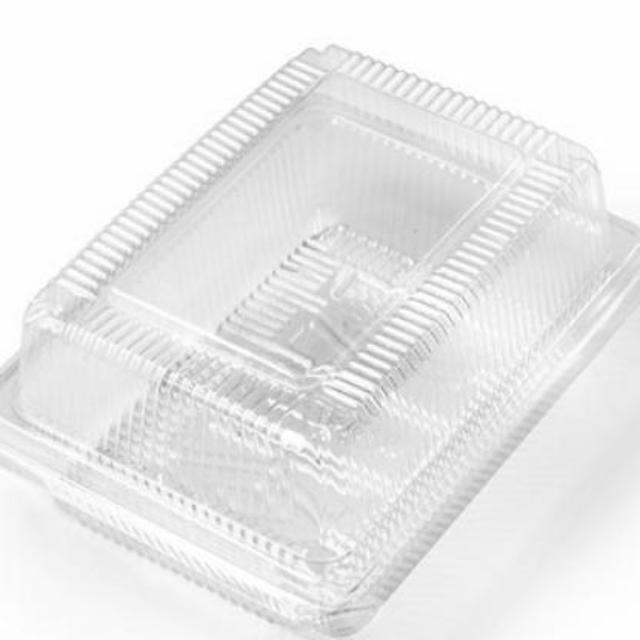plastic_box: (0, 38, 638, 638)
